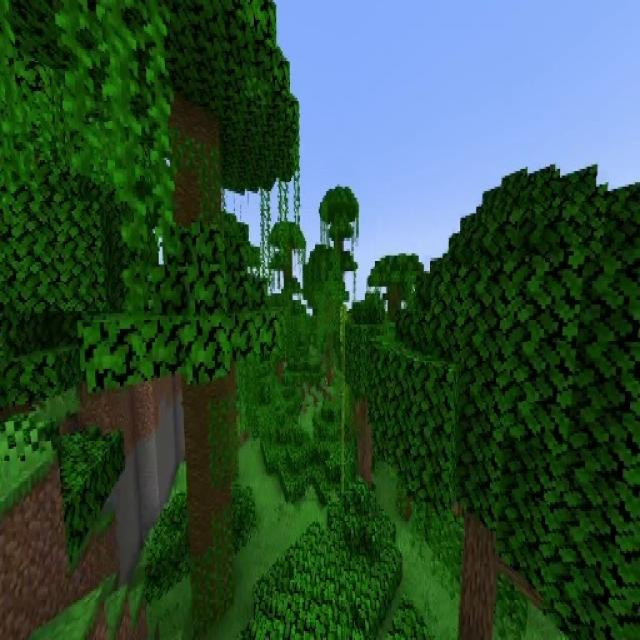jungle_log: (183, 380, 235, 630)
oak_log: (459, 511, 494, 640)
